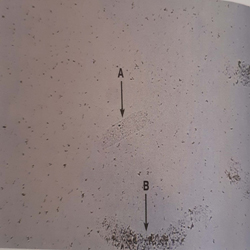Cast: (107, 223, 192, 249), (92, 116, 161, 144)
